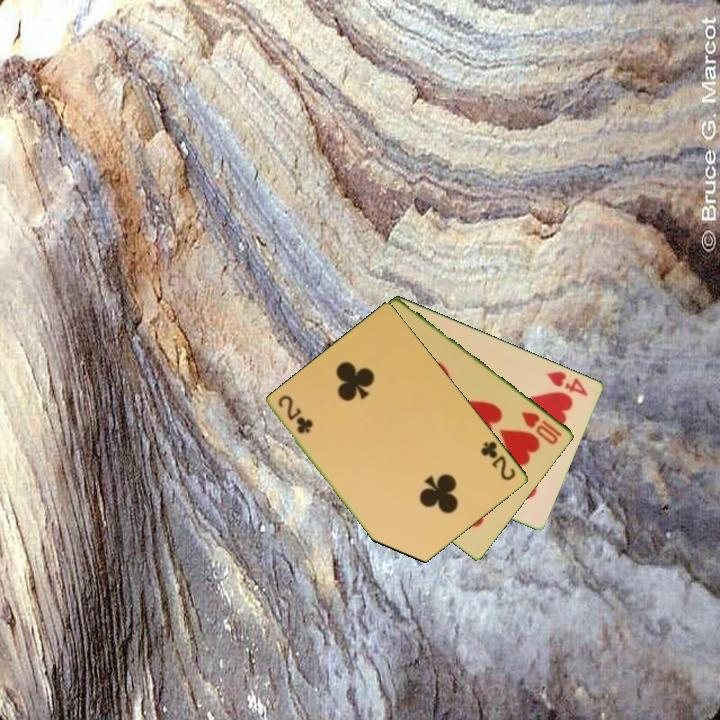10h: (518, 408, 565, 447)
2c: (477, 437, 519, 484), (275, 391, 315, 437)
4h: (543, 367, 591, 399)
